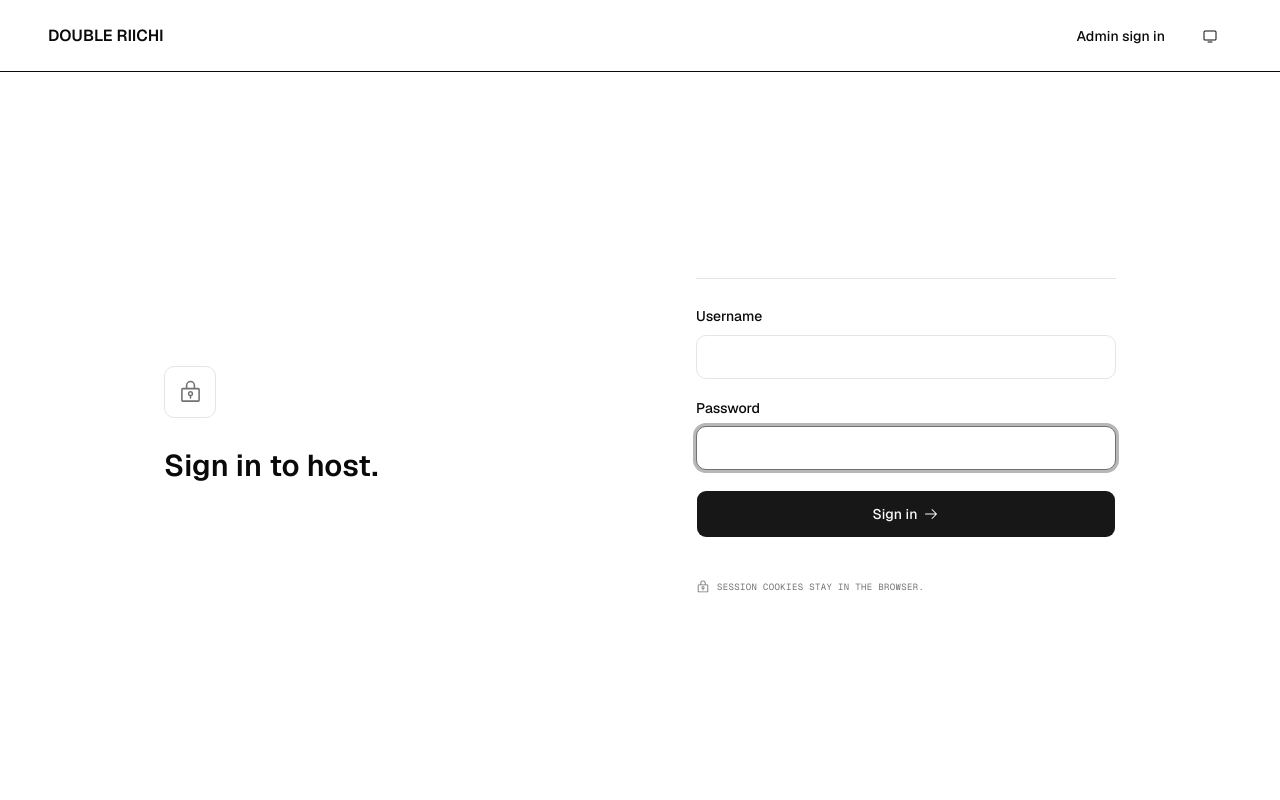
Scenario: admin login › shows an inline Problem Details error and keeps password content out of the page
Type "admin" into the field labelled "Username" at (906, 356), box [696,334,1116,378]
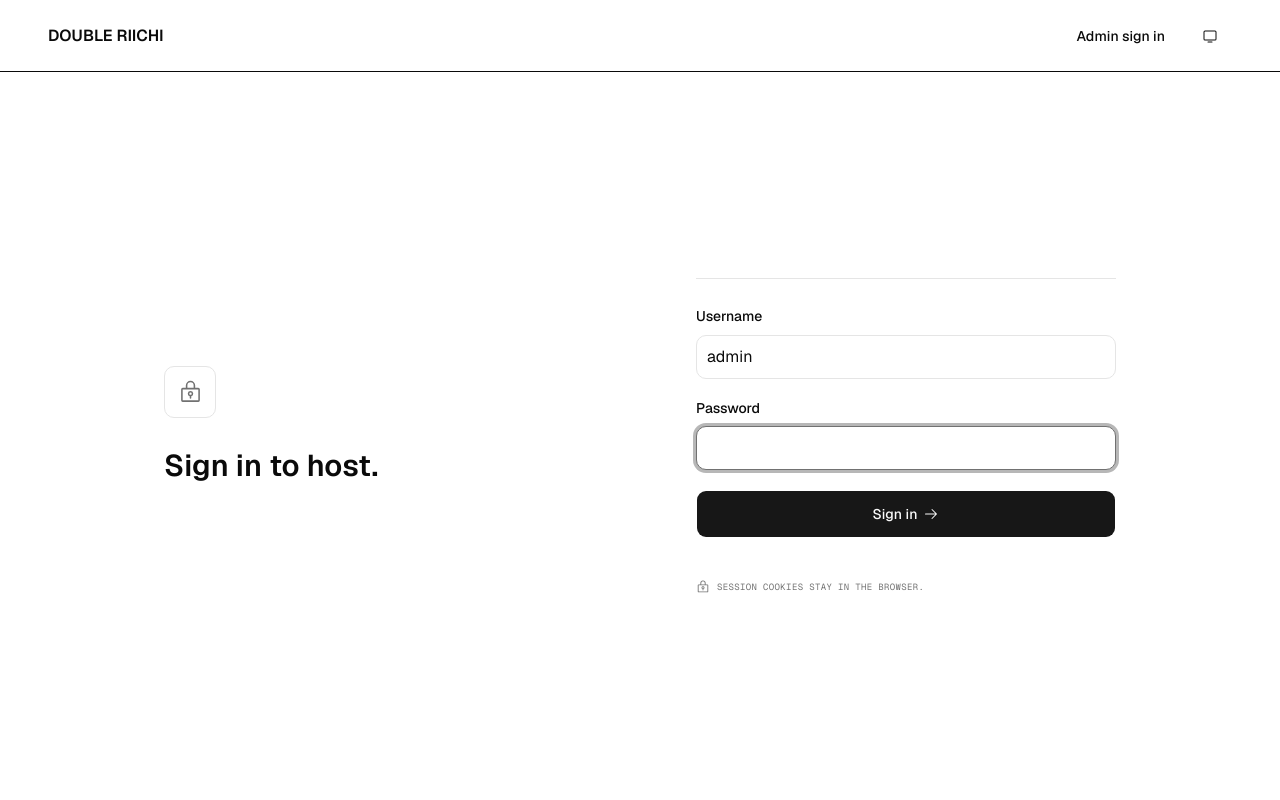
Type "secret" into the password field labelled "Password" at (906, 448), box [696,426,1116,470]
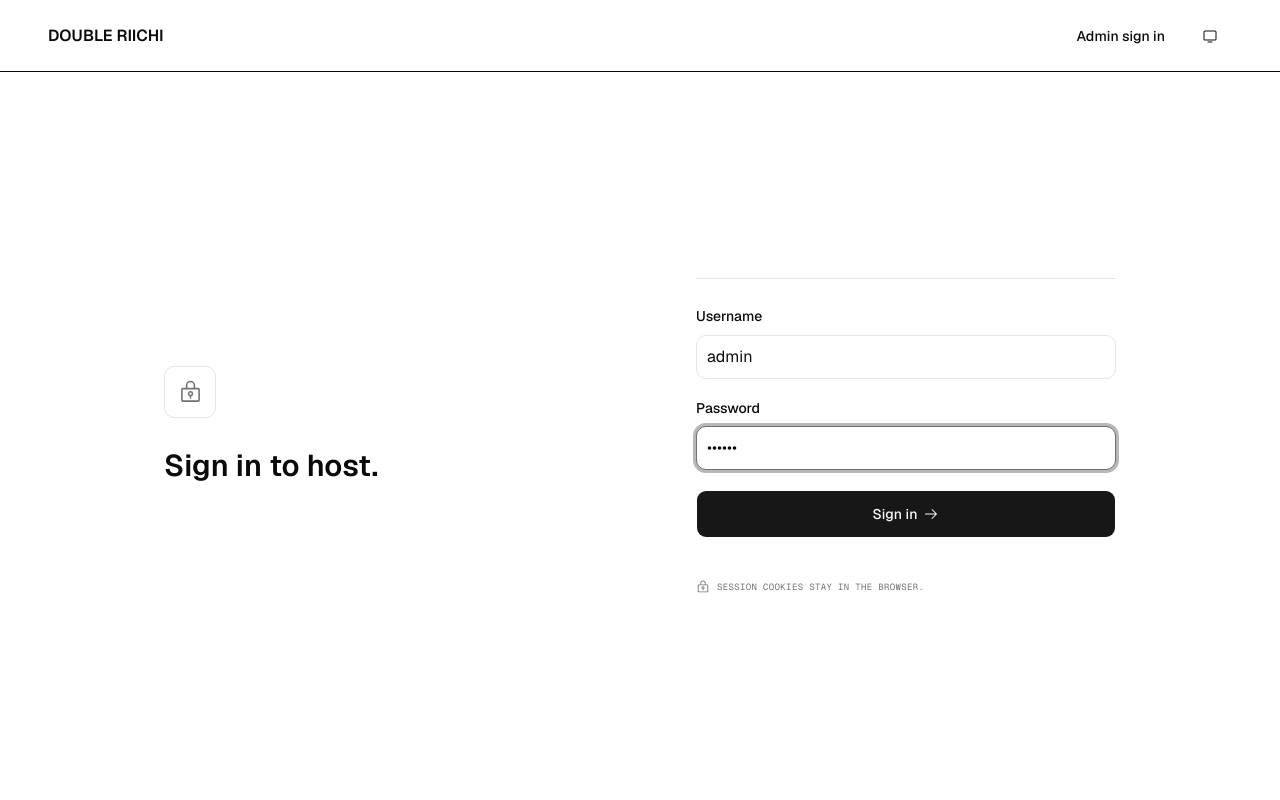
Click the button "Sign in" at (906, 514), box [696,490,1116,538]
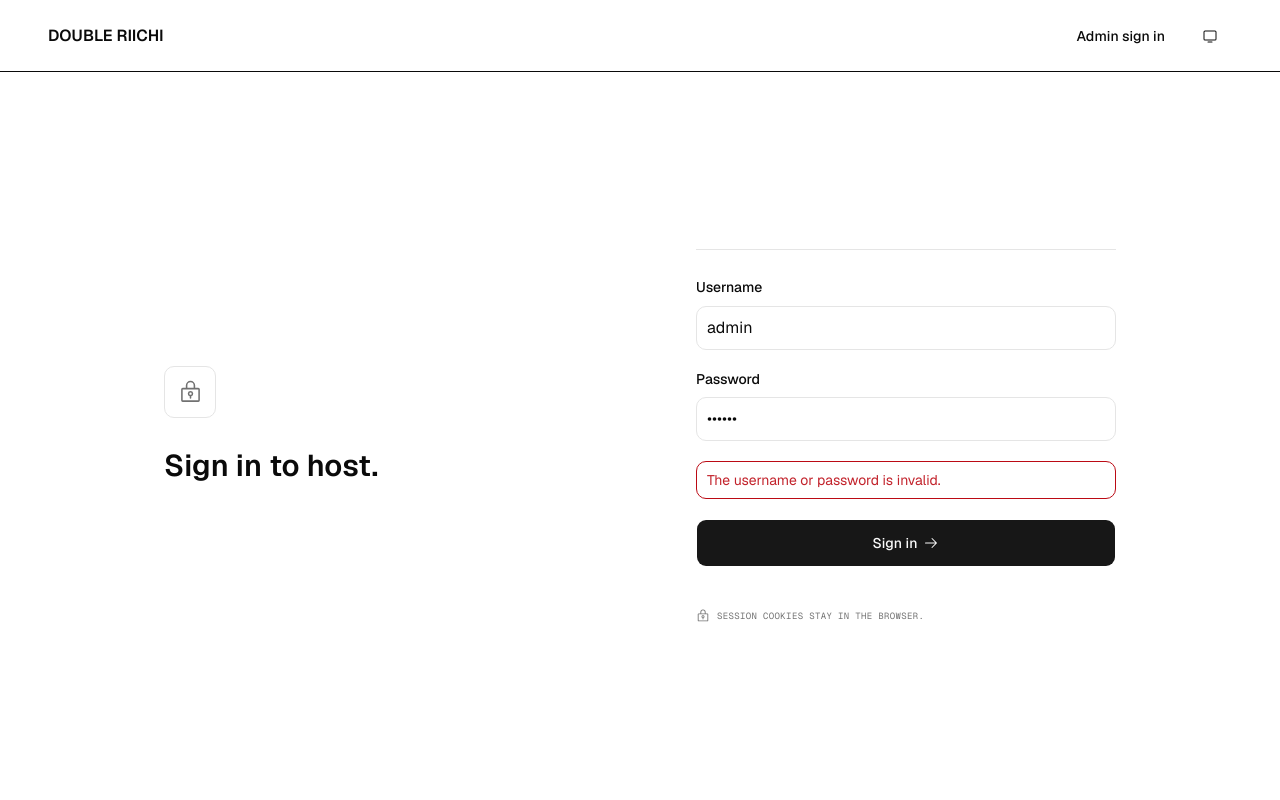
Now the message reads "The username or password is invalid.", box [707,471,941,489]
